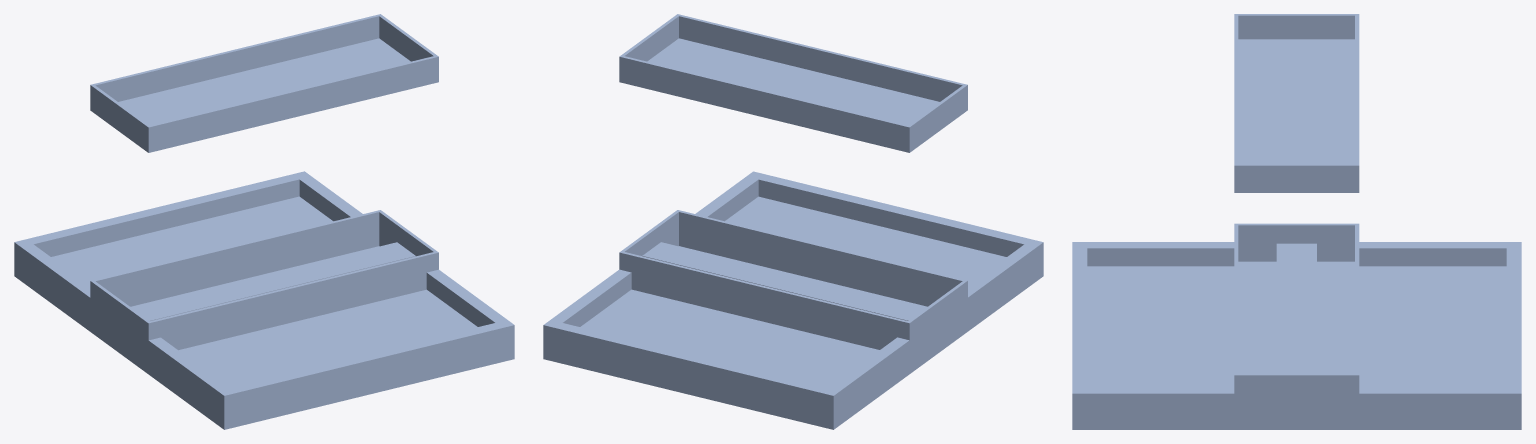
File: A_Filter_expansion.glb
The picture shows the model from 3 angles, left to right: view 1: azimuth 30°, elevation 25°; view 2: azimuth 150°, elevation 25°; view 3: azimuth 270°, elevation 25°; orthographic projection. The views are drawn at different scales.
Visible parts, largest first — view 1: Floor1, Floor2; view 2: Floor1, Floor2; view 3: Floor1, Floor2.
Boxes of the visible parts, bbox=[...] form: Floor1: bbox=[14, 171, 514, 429]; Floor2: bbox=[90, 14, 438, 152]; Floor1: bbox=[543, 171, 1043, 429]; Floor2: bbox=[619, 14, 967, 152]; Floor1: bbox=[1072, 223, 1521, 429]; Floor2: bbox=[1234, 14, 1359, 192].
Bounding box in the file's own units: 35.68 × 29 × 44.71.
